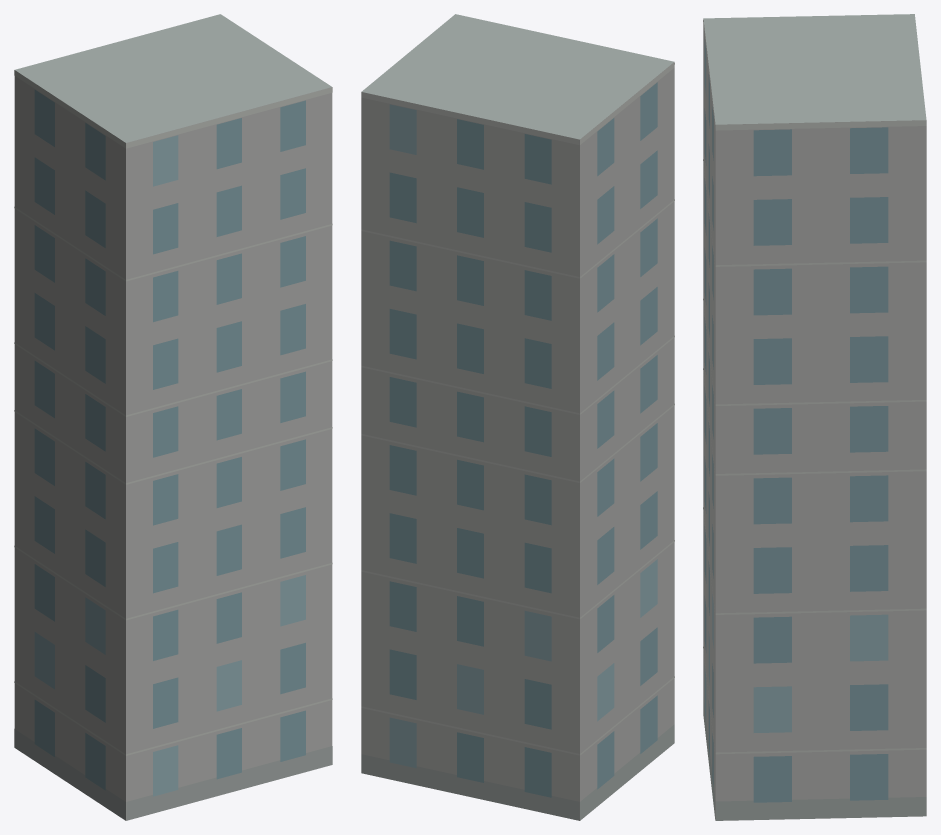
File: survey-upis-32739875.glb
3 renders of one model, left to right at view 1: azimuth 30°, elevation 25°; view 2: azimuth 150°, elevation 25°; view 3: azimuth 270°, elevation 25°, orthographic. The views are drawn at different scales.
Visible parts, largest first — view 1: survey-upis-32739875.tmp; view 2: survey-upis-32739875.tmp; view 3: survey-upis-32739875.tmp.
Part boxes in pixels (x1,y1,x2,y2): survey-upis-32739875.tmp: (14,14,332,820); survey-upis-32739875.tmp: (361,14,674,820); survey-upis-32739875.tmp: (703,14,926,820).
Size of the model in its own units: 9.98 by 29.2 by 8.51.
